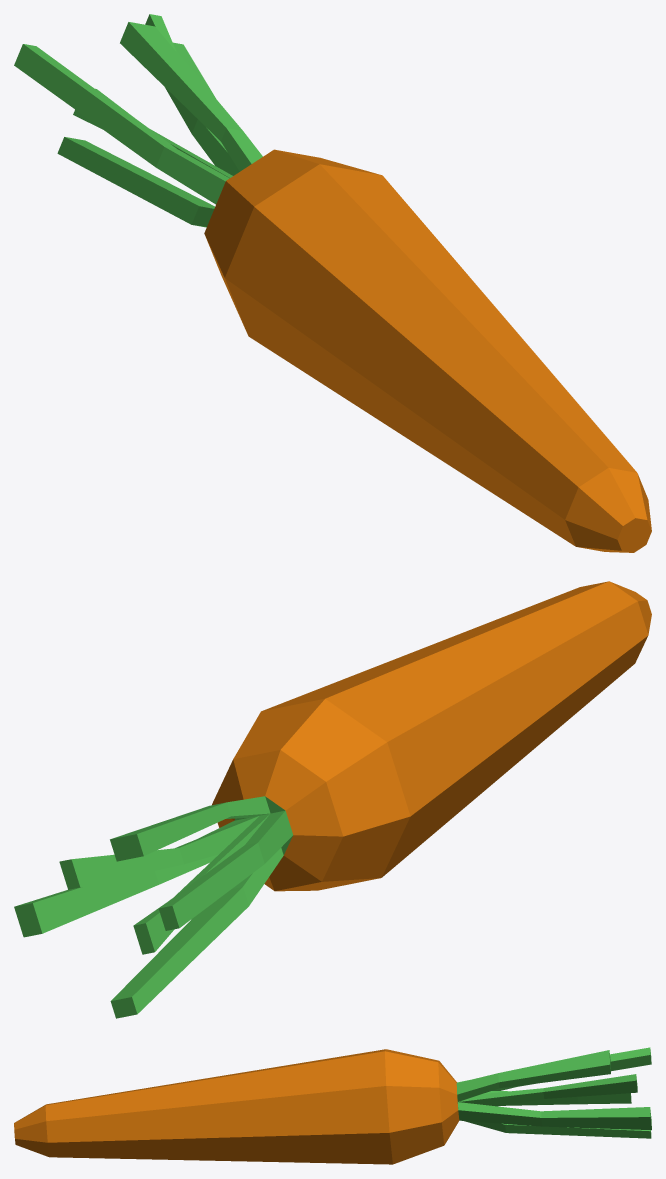
The model's file is carrot.fbx.
The picture shows the model from 3 angles, top to bottom: view 1: azimuth 30°, elevation 25°; view 2: azimuth 150°, elevation 25°; view 3: azimuth 270°, elevation 25°; orthographic projection. The views are drawn at different scales.
Parts seen in each view (by area): view 1: Cylinder.043; view 2: Cylinder.043; view 3: Cylinder.043.
Boxes of the visible parts, x1,y1,x2,y2 form: Cylinder.043: [14, 14, 651, 552]; Cylinder.043: [14, 581, 651, 1018]; Cylinder.043: [14, 1047, 651, 1164].
Size of the model in its own units: 4.98 by 5.02 by 25.81.
